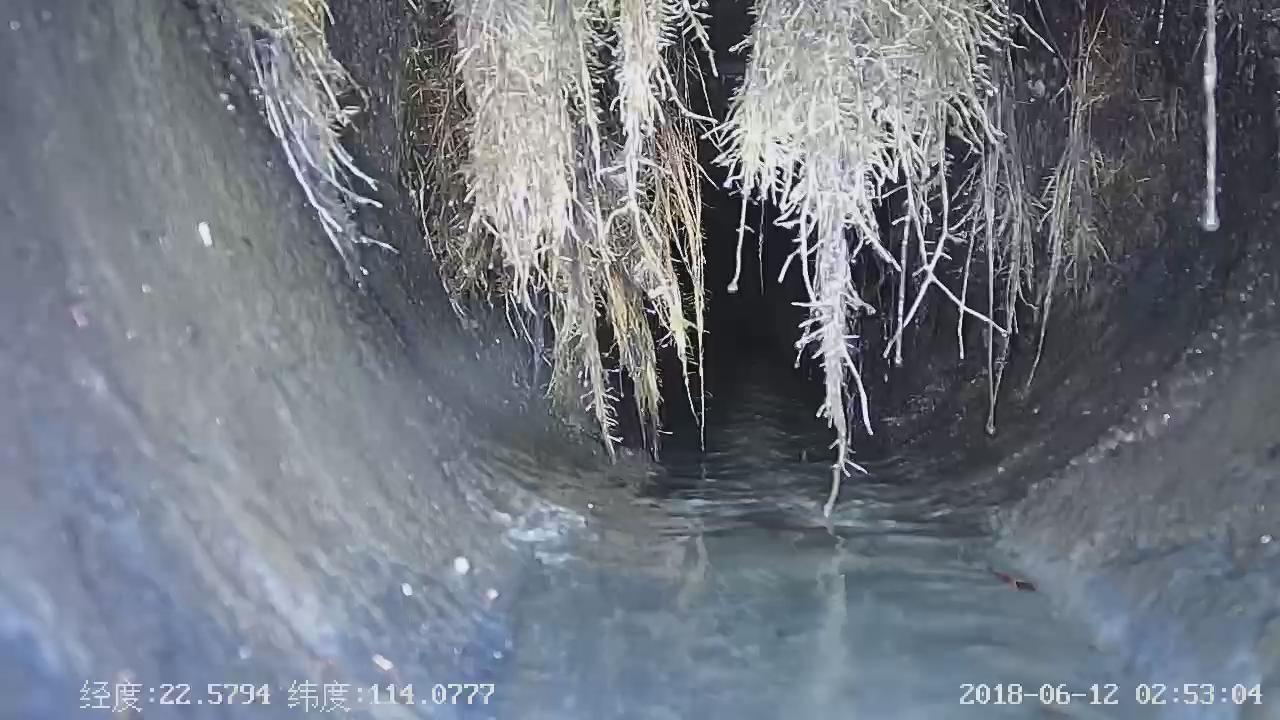SG: (420, 0, 1120, 513), (251, 0, 388, 257), (1192, 0, 1261, 230)
